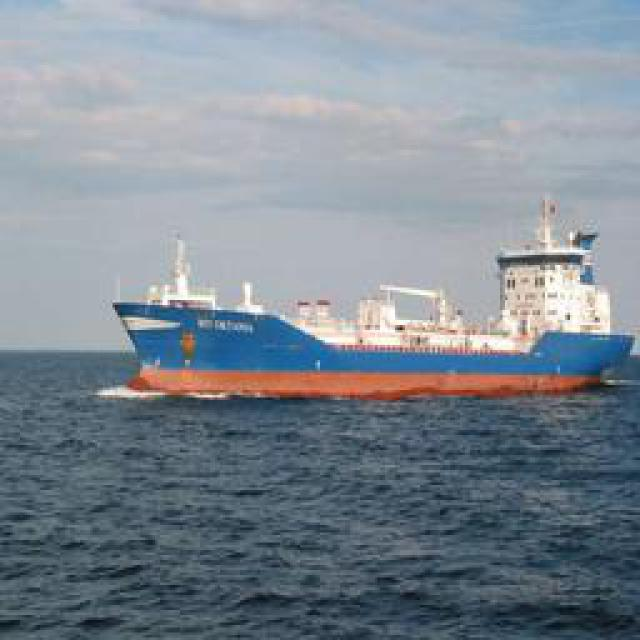Ship: (96, 225, 634, 403)
